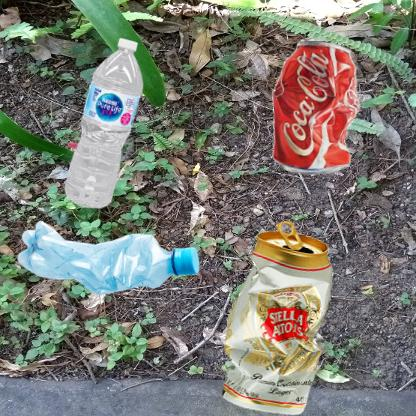botella: (10, 10, 218, 252), (10, 213, 216, 308)
lata: (213, 10, 416, 223), (213, 213, 354, 416)
